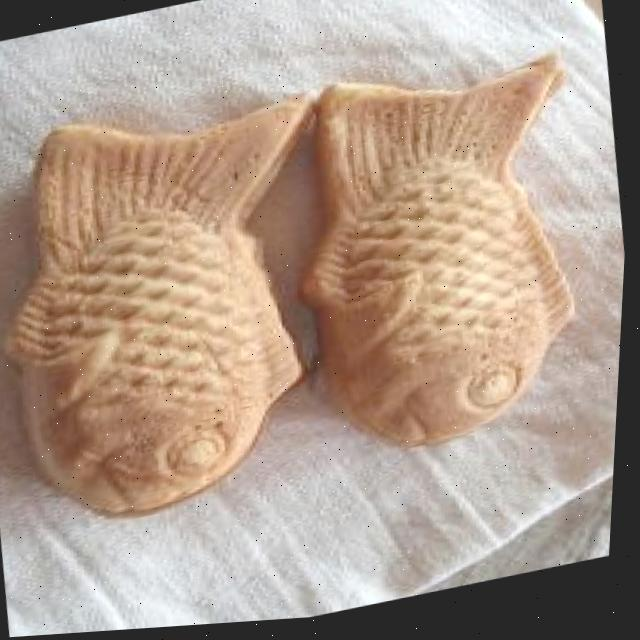熟制海鲜: (0, 29, 635, 546)
